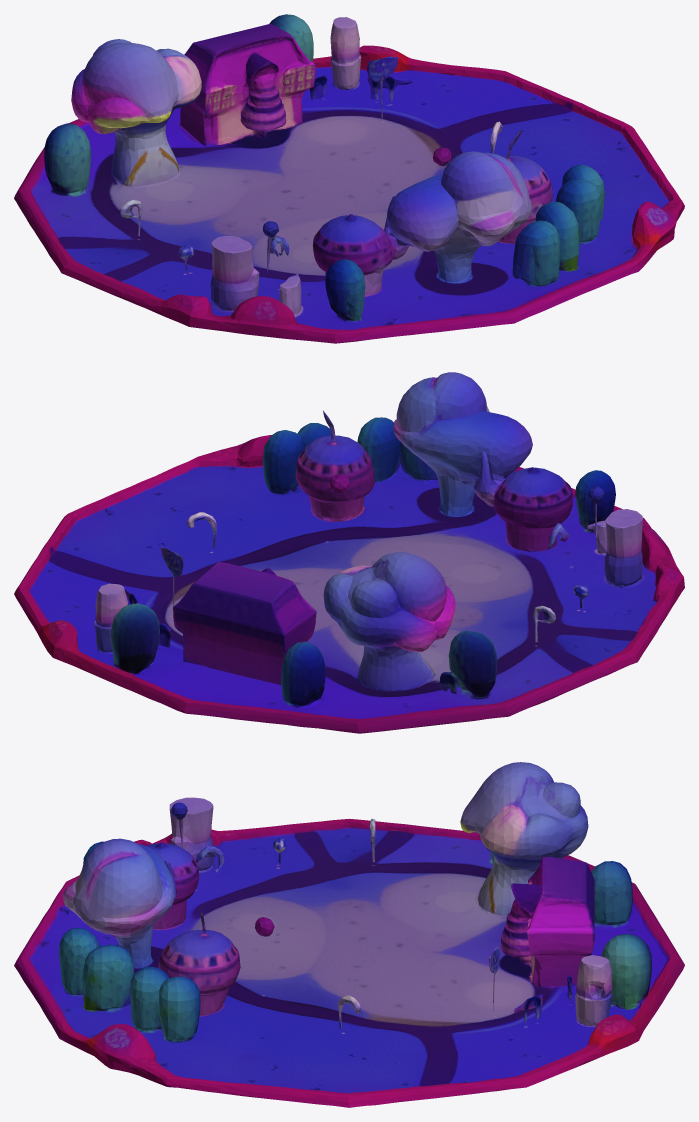
Rendered from forest_map.glb.
3 views of the same model, one above another, from view 1: azimuth 30°, elevation 25°; view 2: azimuth 150°, elevation 25°; view 3: azimuth 270°, elevation 25° (orthographic).
Visible parts, largest first — view 1: world; view 2: world; view 3: world.
Boxes of the visible parts, left/top/right/bottom form: world: left=14, top=14, right=684, bottom=343; world: left=14, top=372, right=684, bottom=733; world: left=14, top=762, right=684, bottom=1107.
Bounding box in the file's own units: 5 × 1.08 × 4.99.
Materials: 1 (1 with a texture image).
